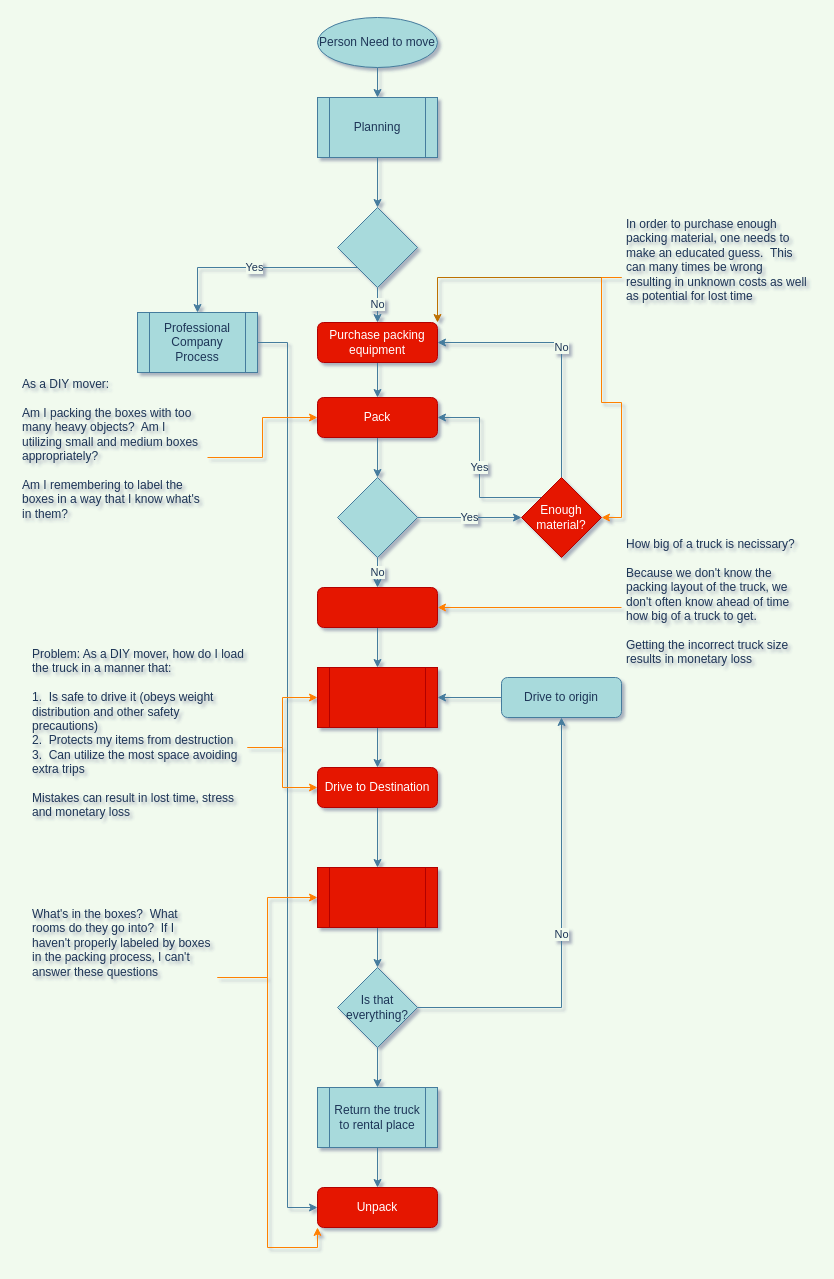
Some shapes in this 834 by 1279 pixel diagram are drawn without their labels. The shapes that lost their labels are listed below. From the top down, each one's box as (x1, y1, x2, y2) in pixels, then its label:
(336, 206, 418, 288): Hire it out?
(336, 476, 418, 558): More?
(316, 586, 438, 628): Rent Truck
(316, 666, 438, 728): Load the truck!
(316, 866, 438, 928): Unload the truck
